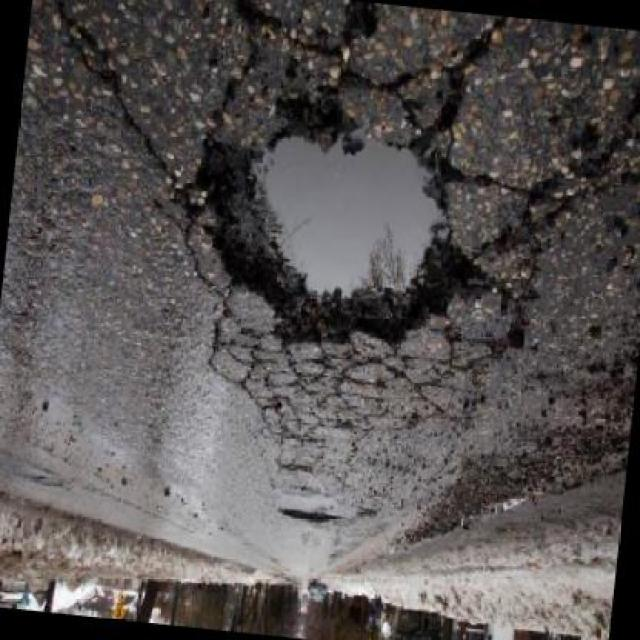pothole: (168, 75, 502, 374), (279, 507, 339, 531)
